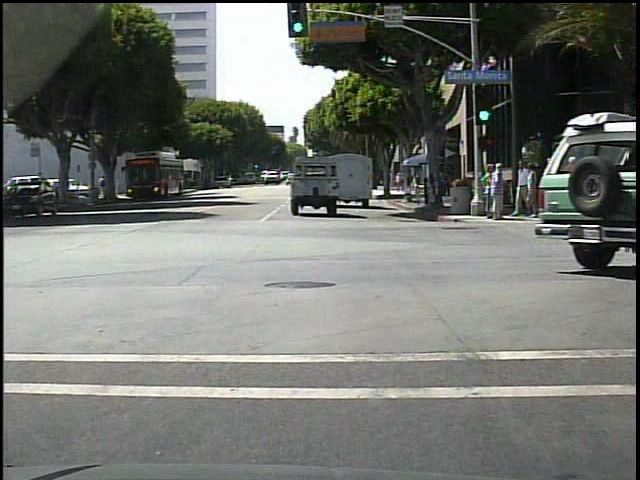person: (561, 156, 584, 229), (486, 161, 508, 221), (600, 163, 620, 225), (514, 159, 535, 217), (536, 152, 555, 215), (586, 165, 606, 224), (525, 163, 541, 219), (483, 163, 495, 218), (103, 176, 114, 201), (97, 175, 107, 198), (395, 170, 403, 193)
